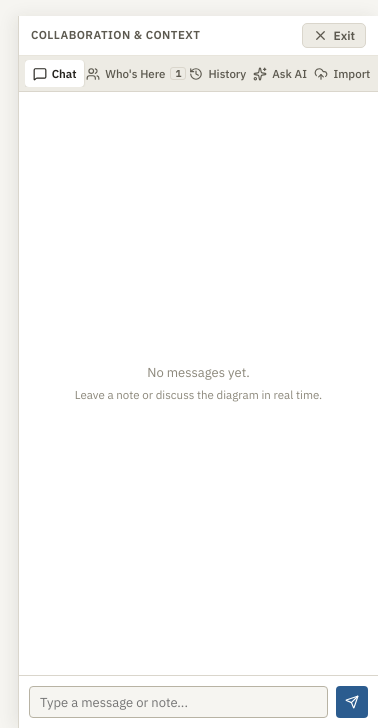
ContextDrawer Component › switches to Participants tab on tab click
Click the tab with id "drawer-tab-participants": click(136, 74) [87, 60, 185, 87]
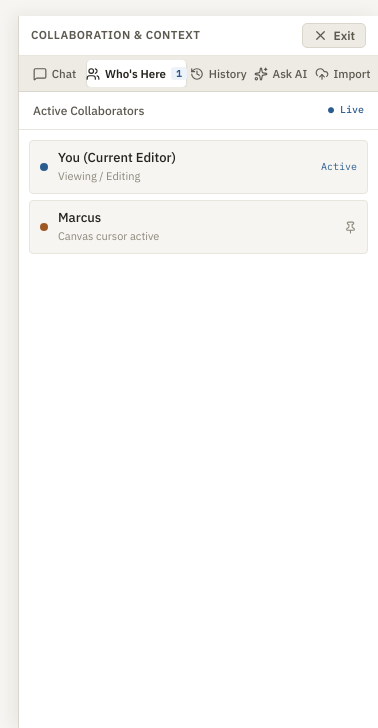
Now the text "Marcus" is shown, box [58, 209, 101, 226]
Now the text "Active Collaborators" is shown, box [33, 102, 144, 119]
